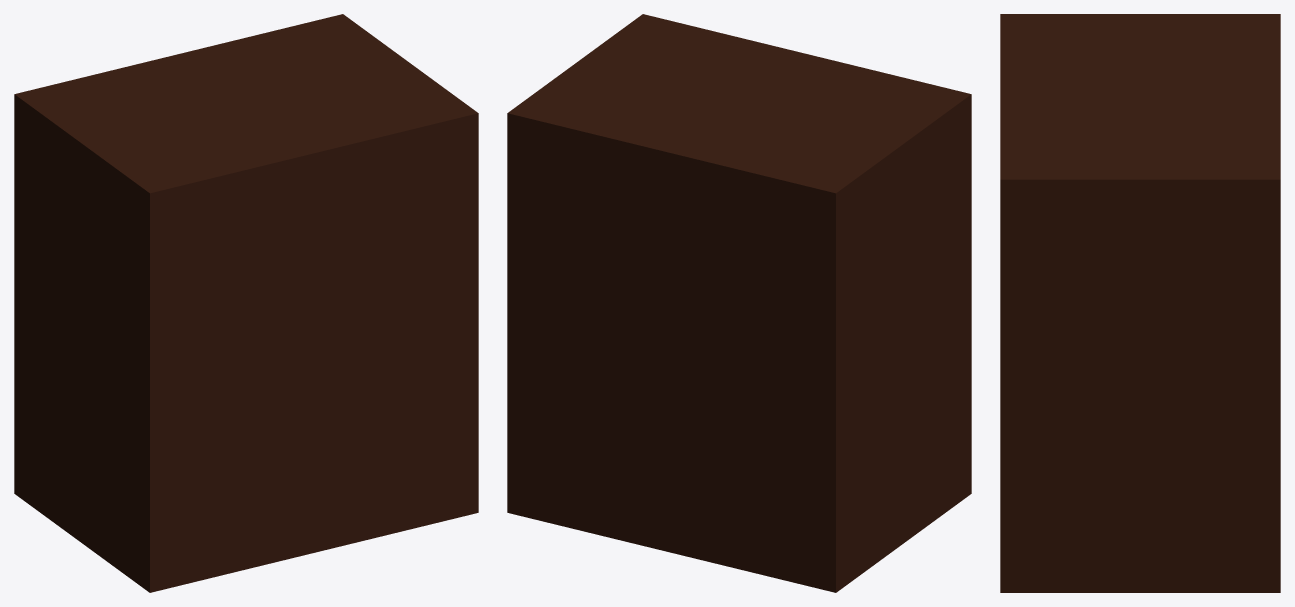
Rendered from magnifier_stand.obj.
3 renders of one model, left to right at view 1: azimuth 30°, elevation 25°; view 2: azimuth 150°, elevation 25°; view 3: azimuth 270°, elevation 25°, orthographic. The views are drawn at different scales.
Visible parts, largest first — view 1: dark_wood; view 2: dark_wood; view 3: dark_wood.
Part boxes in pixels (left/top/right/bottom): dark_wood: left=14, top=14, right=478, bottom=592; dark_wood: left=507, top=14, right=971, bottom=592; dark_wood: left=1000, top=14, right=1280, bottom=592.
Bounding box in the file's own units: 1.05 × 1.22 × 0.75.
